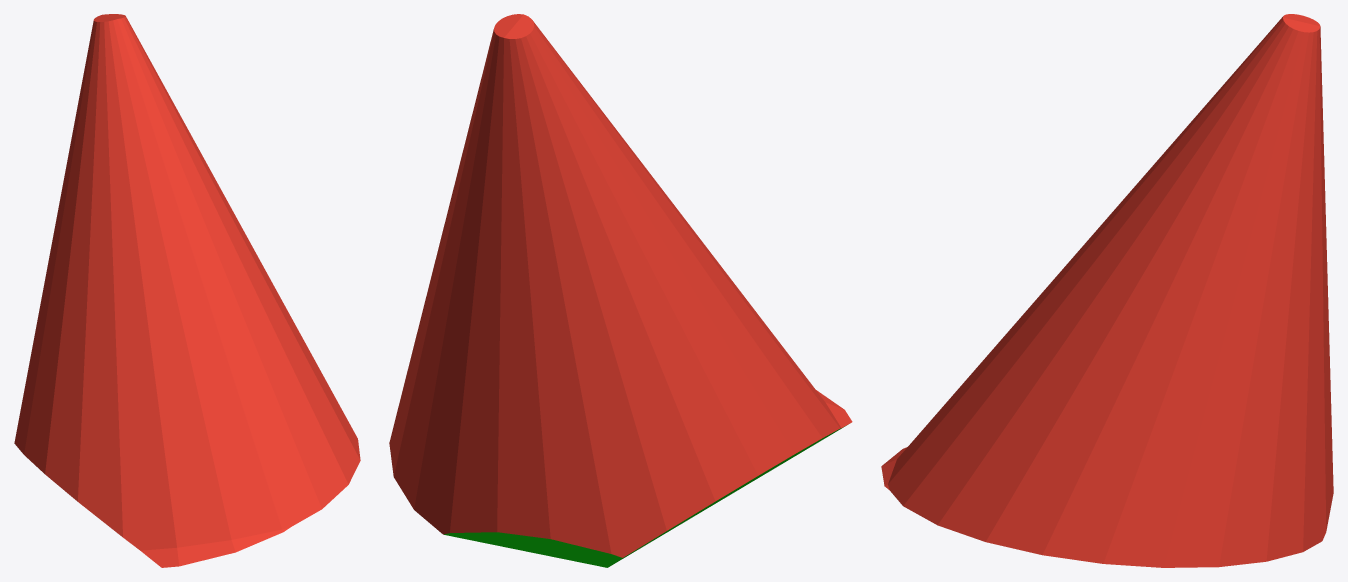
File: Shard08.fbx
3 renders of one model, left to right at view 1: azimuth 30°, elevation 25°; view 2: azimuth 150°, elevation 25°; view 3: azimuth 270°, elevation 25°, orthographic. The views are drawn at different scales.
Visible parts, largest first — view 1: Gnome_Geo_shard8; view 2: Gnome_Geo_shard8; view 3: Gnome_Geo_shard8.
Part boxes in pixels (box(x1,y1,x2,y2)): Gnome_Geo_shard8: box(14, 14, 360, 567); Gnome_Geo_shard8: box(389, 14, 852, 567); Gnome_Geo_shard8: box(881, 14, 1333, 567).
Size of the model in its own units: 14.5 by 20.19 by 16.15.
